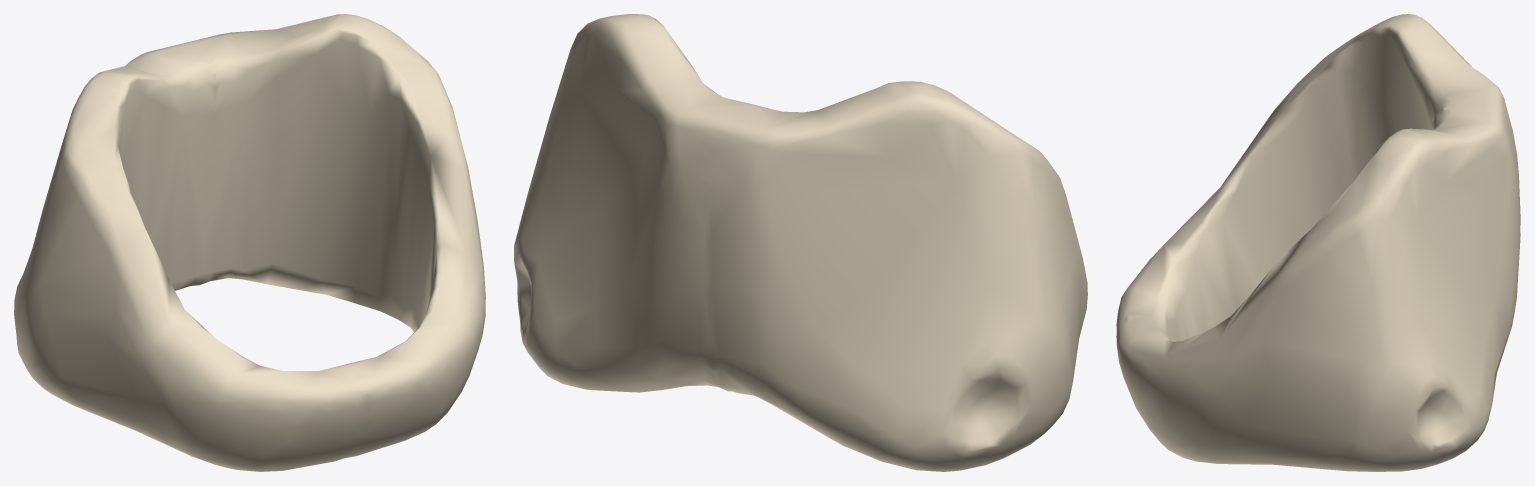
File: cricoid-cartilage.glb
The picture shows the model from 3 angles, left to right: view 1: azimuth 30°, elevation 25°; view 2: azimuth 150°, elevation 25°; view 3: azimuth 270°, elevation 25°; orthographic projection. The views are drawn at different scales.
Parts seen in each view (by area): view 1: Cricoid cartilage; view 2: Cricoid cartilage; view 3: Cricoid cartilage.
Boxes of the visible parts, bbox=[...] form: Cricoid cartilage: bbox=[14, 14, 485, 471]; Cricoid cartilage: bbox=[514, 14, 1087, 471]; Cricoid cartilage: bbox=[1116, 14, 1520, 471].
Size of the model in its own units: 0.0243 by 0.0175 by 0.0189.
